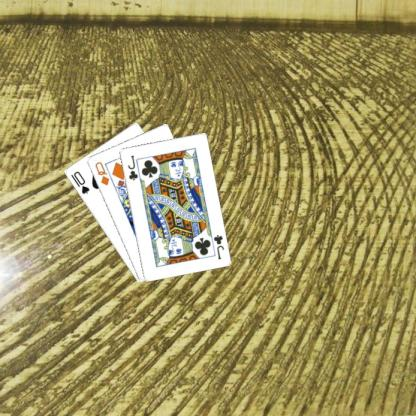10S: (67, 168, 90, 196)
JC: (210, 232, 226, 261), (125, 152, 139, 182)
QD: (92, 159, 110, 187)
